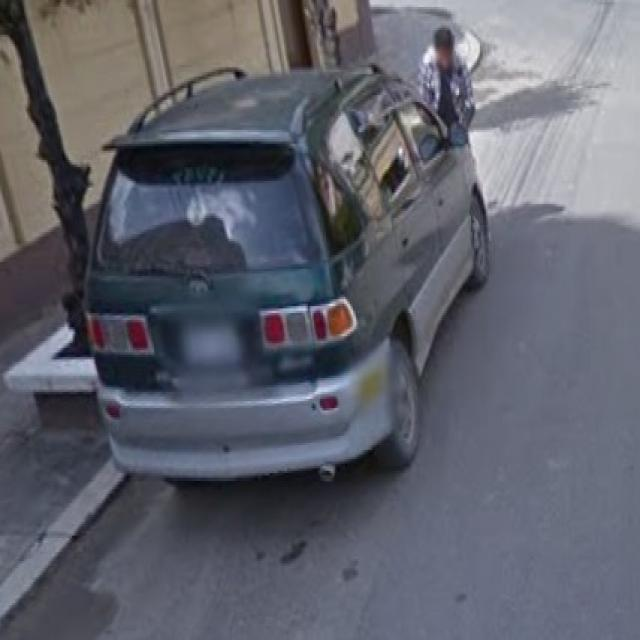cars: (107, 81, 485, 497)
